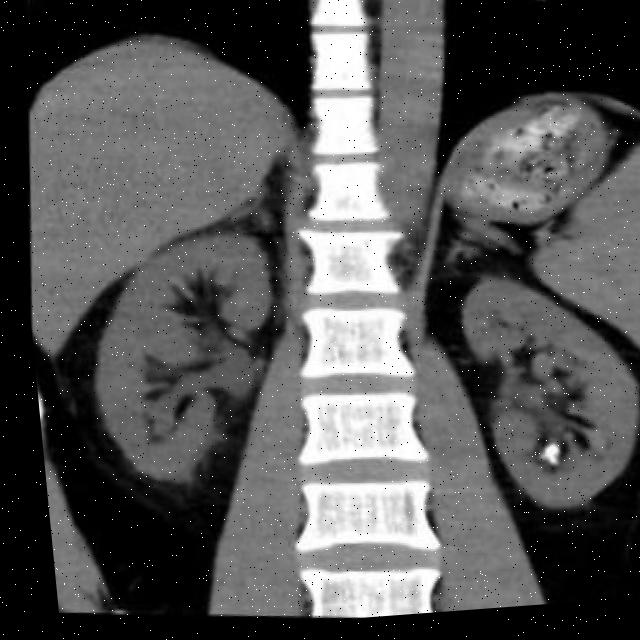Tas_Var: (531, 446, 550, 464), (535, 462, 550, 474), (525, 458, 537, 470)
